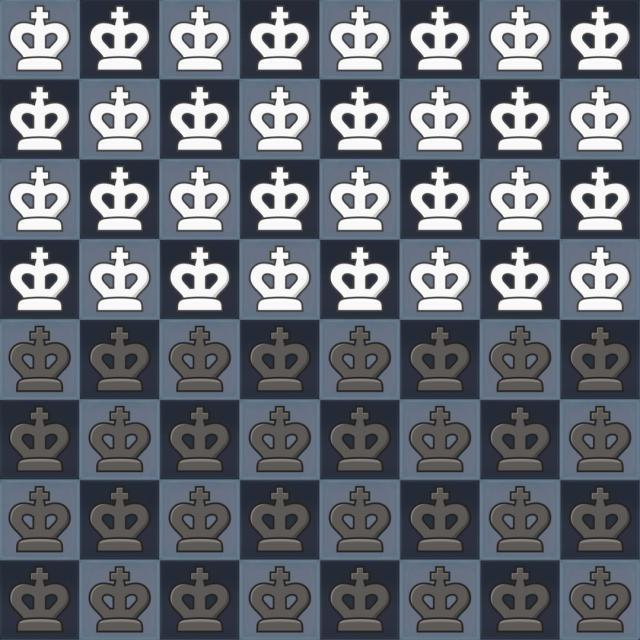black-king: (88, 325, 152, 393), (248, 485, 312, 553), (88, 566, 152, 634), (168, 326, 232, 393), (248, 326, 312, 393), (408, 325, 472, 392), (488, 325, 552, 392), (568, 405, 632, 472), (488, 406, 552, 473), (409, 406, 473, 473), (248, 406, 312, 473), (168, 405, 232, 472), (8, 406, 72, 473), (7, 486, 71, 553), (88, 485, 152, 552), (168, 486, 232, 553), (328, 486, 392, 553), (408, 486, 472, 553), (489, 486, 553, 553), (568, 486, 632, 553), (568, 566, 632, 633), (488, 565, 552, 632), (248, 566, 312, 633), (168, 566, 232, 633), (9, 566, 73, 633), (8, 326, 72, 392), (329, 326, 393, 392), (569, 326, 633, 392), (328, 406, 392, 472), (88, 406, 152, 472), (409, 567, 473, 633), (329, 567, 393, 633)
white-king: (168, 164, 232, 232), (569, 165, 633, 233), (88, 4, 152, 71), (168, 5, 232, 72), (248, 5, 312, 72), (488, 5, 552, 72), (569, 5, 633, 72), (409, 85, 473, 152), (249, 85, 313, 152), (168, 85, 232, 152), (88, 85, 152, 152), (8, 85, 72, 152), (88, 165, 152, 232), (328, 165, 392, 232), (409, 165, 473, 232), (489, 245, 553, 312), (409, 245, 473, 312), (328, 246, 392, 313), (168, 245, 232, 312), (8, 5, 72, 71), (328, 6, 392, 72), (408, 5, 472, 71), (569, 86, 633, 152), (488, 85, 552, 151), (328, 85, 392, 151), (8, 166, 72, 232), (248, 166, 312, 232), (488, 166, 552, 232), (568, 246, 632, 312), (248, 246, 312, 312), (88, 246, 152, 312), (8, 246, 72, 312)
